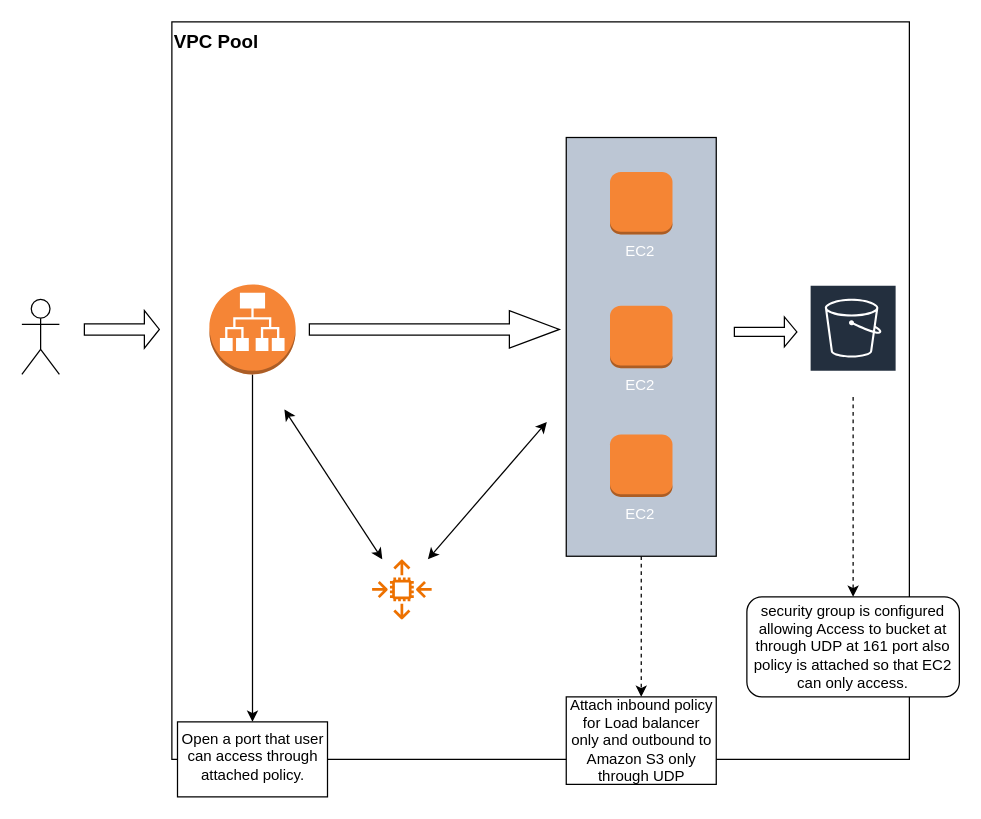
Some shapes in this 981 by 819 pixel diagram are drawn without their labels. The shapes that lost their labels are listed below. From the top down, each one's box as (x1, y1, x2, y2) in pixels, then its label:
(21, 298, 59, 374): Actor
(208, 283, 296, 374): Load Balancer
(808, 283, 897, 397): Amazon S3
(371, 559, 431, 619): Auto-Scaling Group
